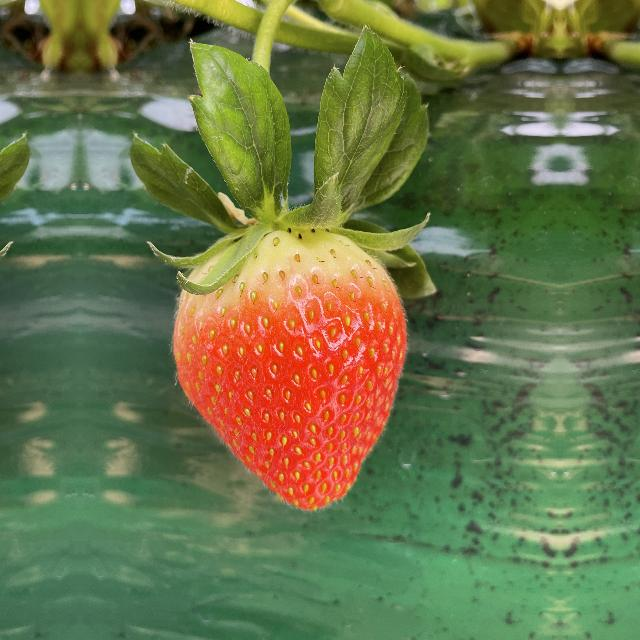Health_100: (158, 223, 404, 515)
